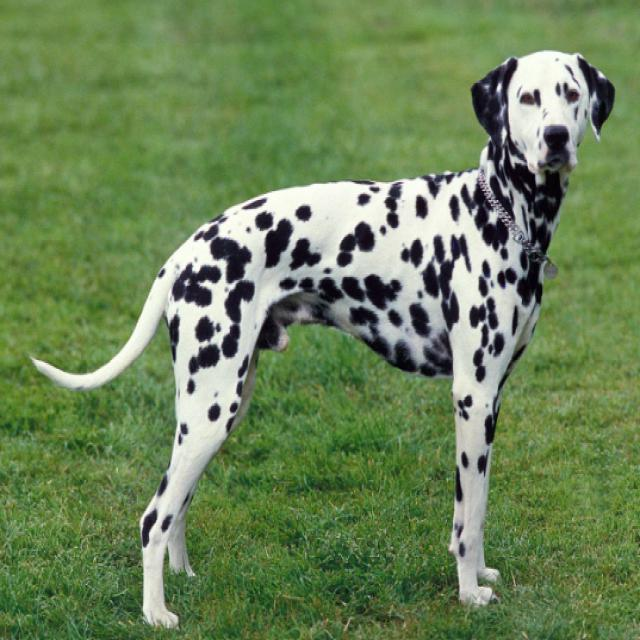Dalmatian: (440, 50, 614, 273)
